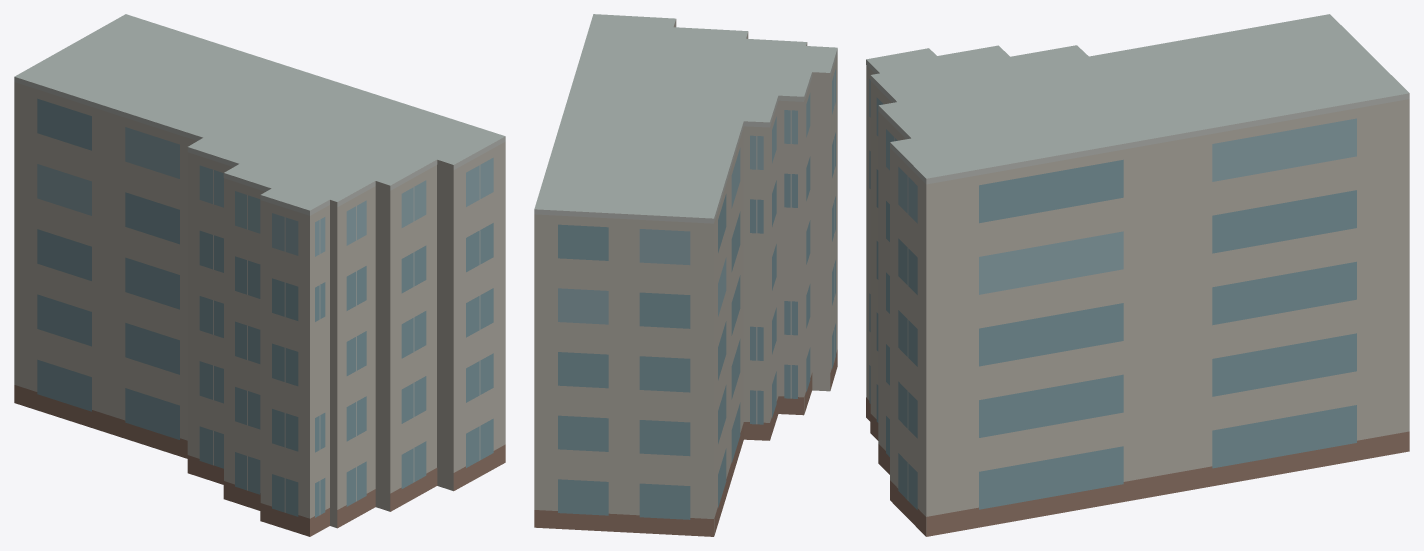
File: survey-upis-33003118.glb
The picture shows the model from 3 angles, left to right: view 1: azimuth 30°, elevation 25°; view 2: azimuth 150°, elevation 25°; view 3: azimuth 270°, elevation 25°; orthographic projection. The views are drawn at different scales.
Parts seen in each view (by area): view 1: survey-upis-33003118.tmp; view 2: survey-upis-33003118.tmp; view 3: survey-upis-33003118.tmp.
Boxes of the visible parts, x1,y1,x2,y2 form: survey-upis-33003118.tmp: [14, 14, 505, 536]; survey-upis-33003118.tmp: [534, 14, 837, 536]; survey-upis-33003118.tmp: [866, 14, 1409, 536].
Bounding box in the file's own units: 15.06 × 15.25 × 20.98.
